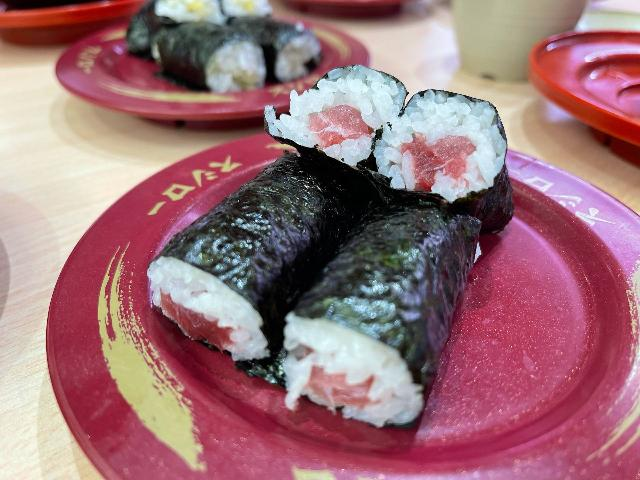janred: (82, 133, 640, 480), (51, 29, 376, 122), (501, 29, 640, 140), (0, 0, 149, 27)
